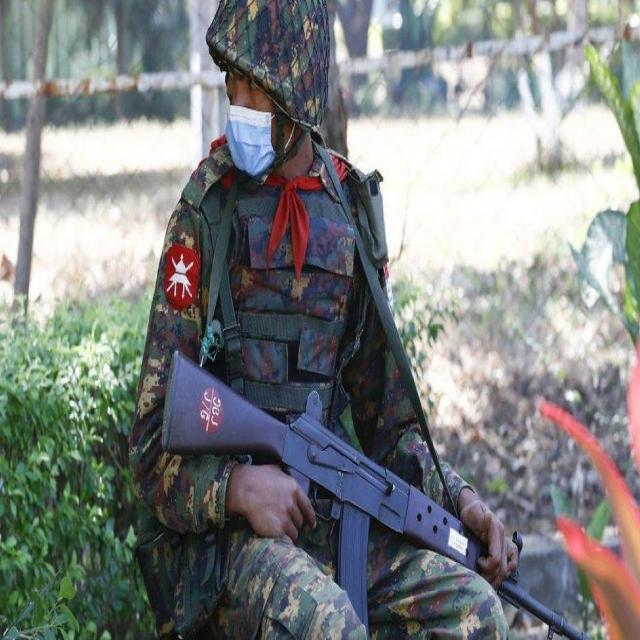gun: (163, 347, 585, 639)
